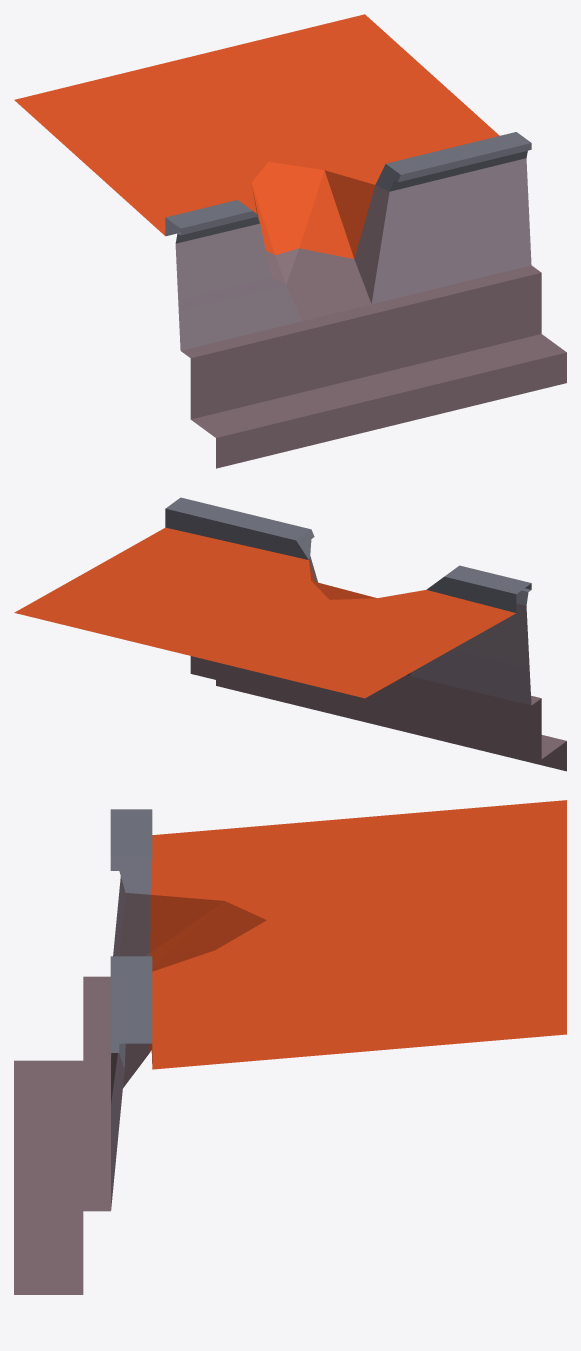
The model's file is SM_TerraceStraight02.fbx.
3 views of the same model, one above another, from view 1: azimuth 30°, elevation 25°; view 2: azimuth 150°, elevation 25°; view 3: azimuth 270°, elevation 25° (orthographic). The views are drawn at different scales.
Visible parts, largest first — view 1: TerraceStraight02; view 2: TerraceStraight02; view 3: TerraceStraight02.
Boxes of the visible parts, bbox=[...] form: TerraceStraight02: bbox=[14, 14, 566, 468]; TerraceStraight02: bbox=[14, 497, 566, 771]; TerraceStraight02: bbox=[14, 800, 566, 1294].
Bounding box in the file's own units: 3 × 1.8 × 2.99.
